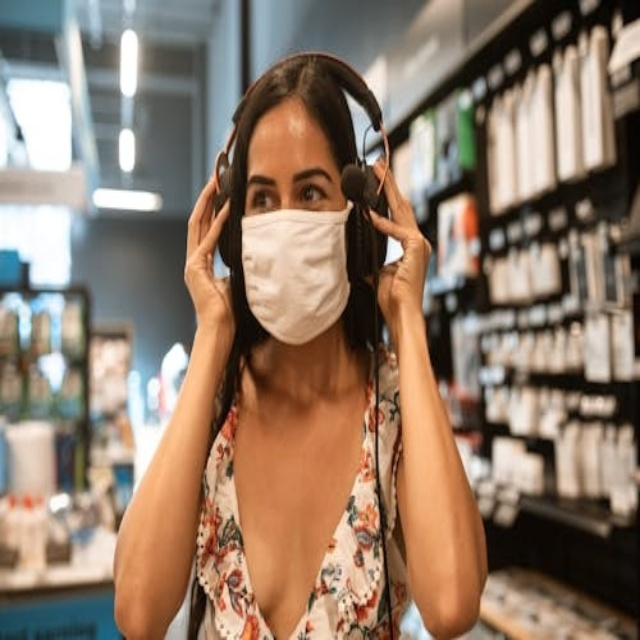Mascara: (239, 204, 356, 346)
Sin_gafas: (243, 156, 334, 209)
Sin_guantes: (367, 150, 438, 334), (178, 163, 234, 357)
